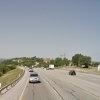Car: (25, 67, 43, 92)
